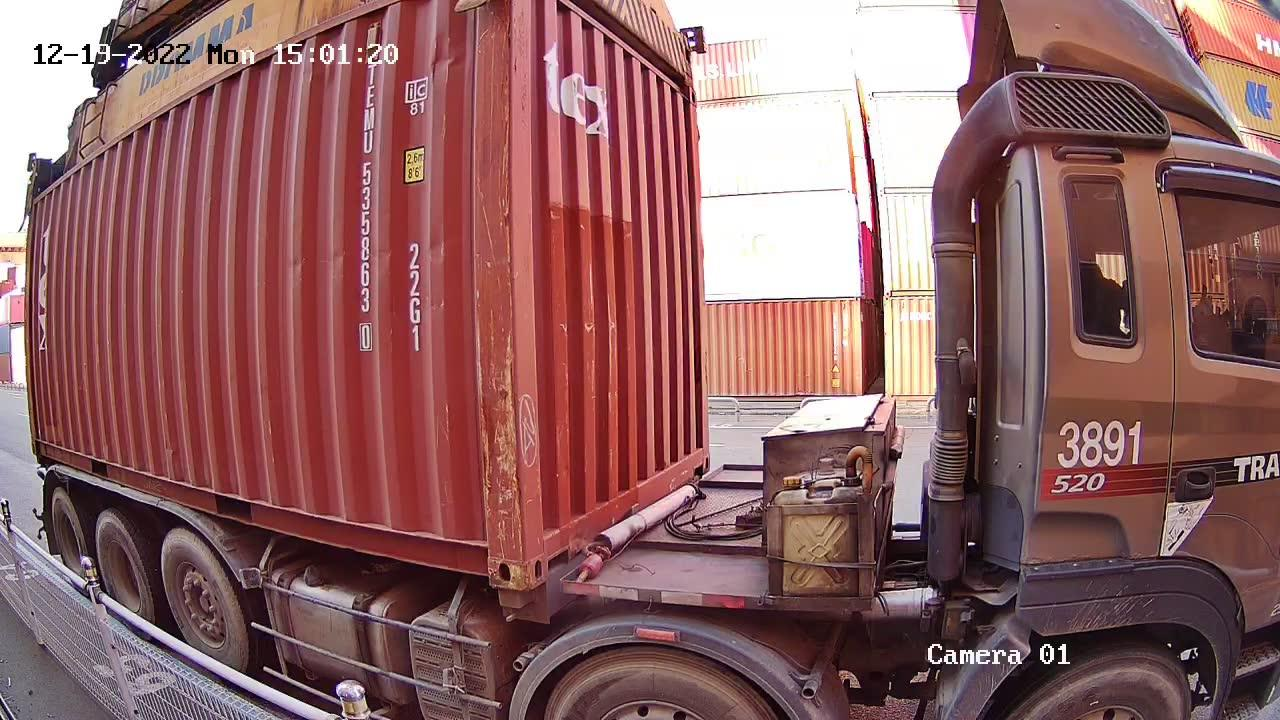Cone: (497, 590, 531, 623)
Hole_L: (518, 500, 571, 592)
Hole_R: (458, 512, 523, 588), (680, 431, 713, 482)
Tire: (162, 532, 244, 667), (96, 513, 153, 619), (52, 489, 85, 570)
